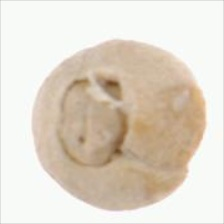L3: (57, 72, 133, 170)
L4: (31, 39, 208, 212)
